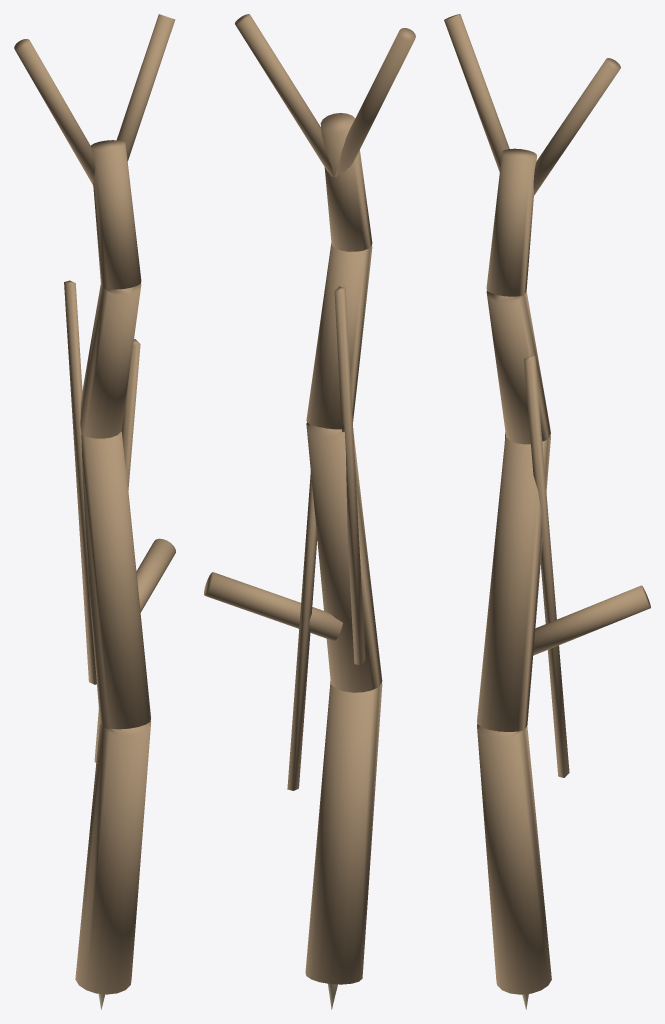
3 renders of one model, left to right at view 1: azimuth 30°, elevation 25°; view 2: azimuth 150°, elevation 25°; view 3: azimuth 330°, elevation 25°, orthographic. The views are drawn at different scales.
Parts seen in each view (by area): view 1: Shaft, Ridge2, ForkB, ForkA, Branch1, Ridge1; view 2: Shaft, Ridge2, Ridge1, Branch1, ForkA, ForkB; view 3: Shaft, Ridge1, Branch1, ForkB, ForkA.
Boxes of the visible parts, bbox=[...] form: Shaft: bbox=[75, 140, 150, 994]; Ridge2: bbox=[64, 280, 96, 684]; ForkB: bbox=[14, 39, 95, 185]; ForkA: bbox=[116, 14, 175, 161]; Branch1: bbox=[136, 538, 175, 612]; Ridge1: bbox=[94, 339, 140, 762]; Shaft: bbox=[305, 113, 382, 984]; Ridge2: bbox=[334, 286, 365, 665]; Ridge1: bbox=[287, 471, 317, 790]; Branch1: bbox=[204, 572, 342, 641]; ForkA: bbox=[235, 14, 334, 176]; ForkB: bbox=[335, 28, 415, 176]; Shaft: bbox=[477, 148, 551, 994]; Ridge1: bbox=[524, 355, 569, 777]; Branch1: bbox=[533, 585, 650, 655]; ForkB: bbox=[444, 14, 509, 172]; ForkA: bbox=[533, 58, 620, 195].
Bounding box in the file's own units: 0.1189 × 0.6123 × 0.0803.
